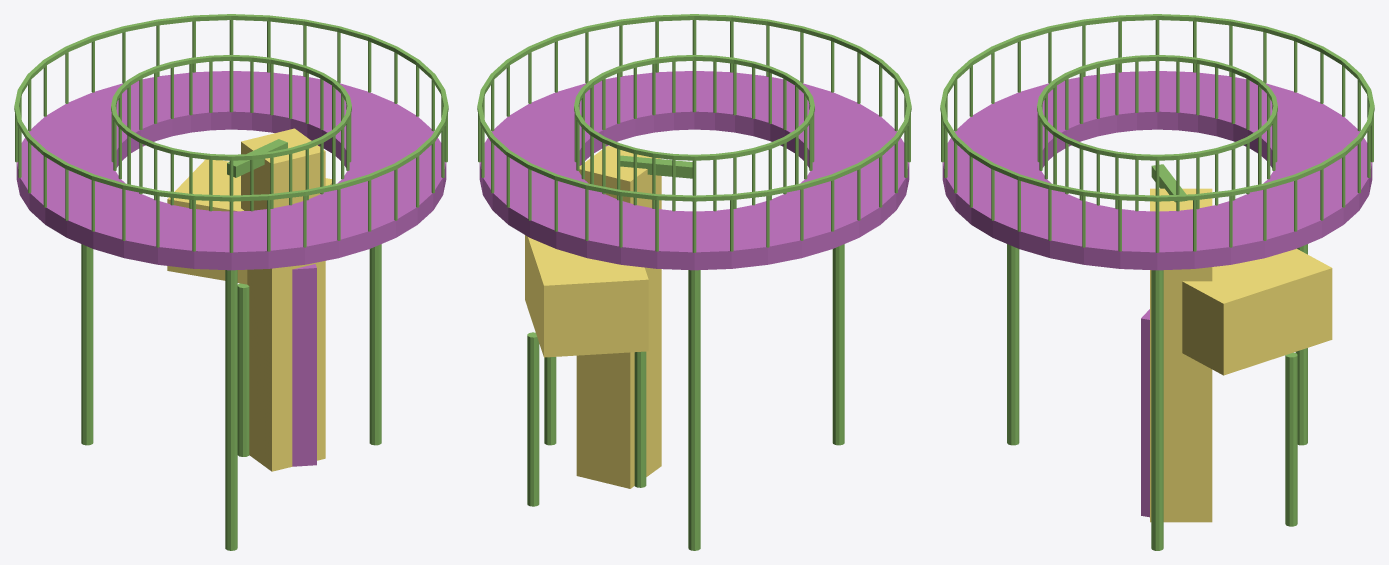
File: folie_tag_023.glb
The picture shows the model from 3 angles, left to right: view 1: azimuth 30°, elevation 25°; view 2: azimuth 150°, elevation 25°; view 3: azimuth 270°, elevation 25°; orthographic projection.
Visible parts, largest first — view 1: folie_tag_023_00_ring, folie_tag_023_line, folie_tag_023_core, folie_tag_023_02_fin, folie_tag_023_01_block; view 2: folie_tag_023_00_ring, folie_tag_023_line, folie_tag_023_core, folie_tag_023_01_block; view 3: folie_tag_023_00_ring, folie_tag_023_line, folie_tag_023_01_block, folie_tag_023_core, folie_tag_023_02_fin.
Boxes of the visible parts, x1,y1,x2,y2 form: folie_tag_023_00_ring: (16,71,446,270); folie_tag_023_line: (14,14,448,550); folie_tag_023_core: (241,128,325,471); folie_tag_023_02_fin: (292,264,316,466); folie_tag_023_01_block: (167,159,331,284); folie_tag_023_00_ring: (479,71,909,270); folie_tag_023_line: (477,14,911,550); folie_tag_023_core: (576,146,661,488); folie_tag_023_01_block: (525,235,648,357); folie_tag_023_00_ring: (942,71,1372,270); folie_tag_023_line: (940,14,1374,550); folie_tag_023_01_block: (1182,248,1332,375); folie_tag_023_core: (1150,188,1212,522); folie_tag_023_02_fin: (1141,309,1149,517).
Bounding box in the file's own units: 7.68 × 7.26 × 7.68.
